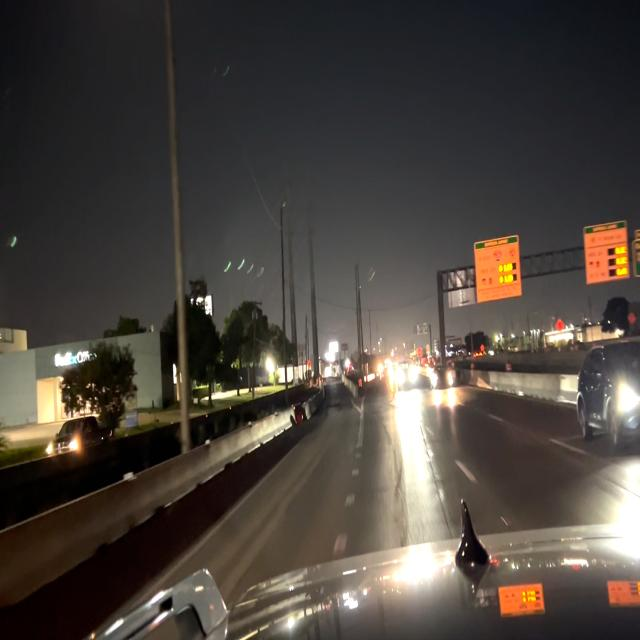back-of-sign: (445, 266, 477, 312), (413, 317, 430, 339)
